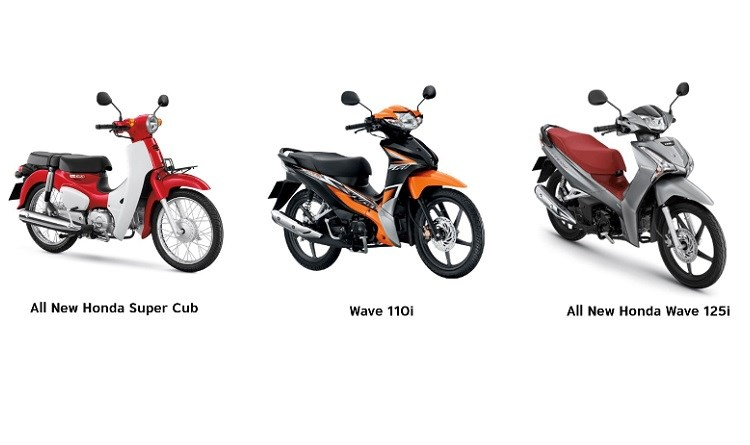motorcycle: (268, 103, 487, 281), (530, 103, 726, 290), (8, 108, 227, 274)
